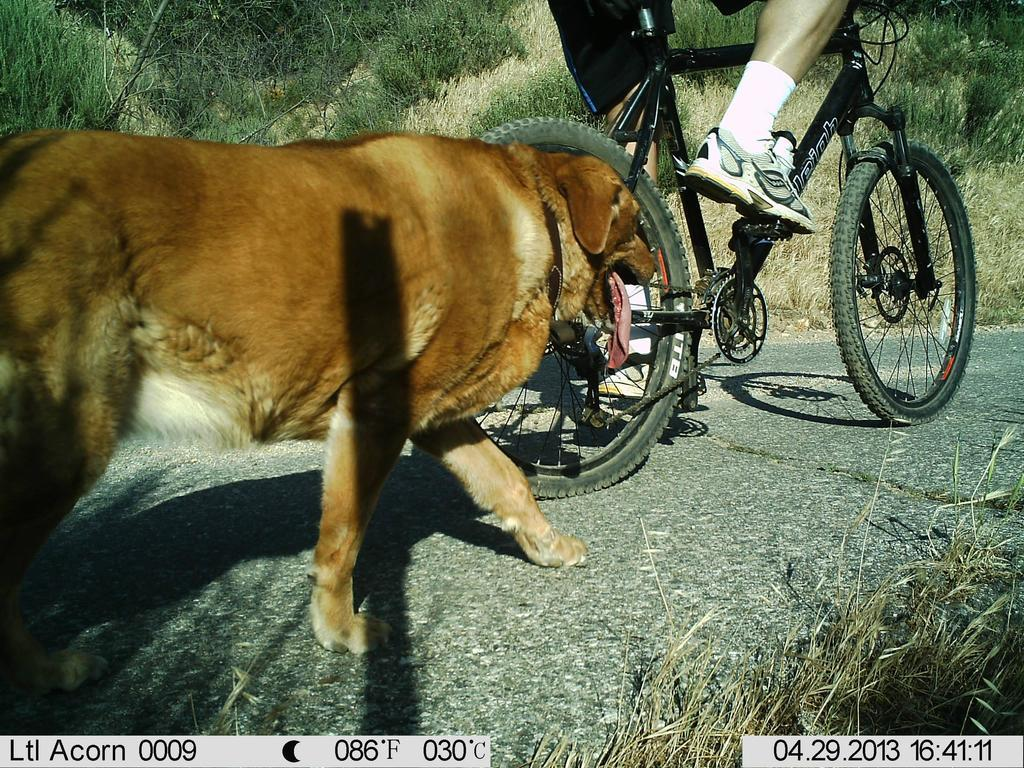dog: (2, 119, 677, 695)
